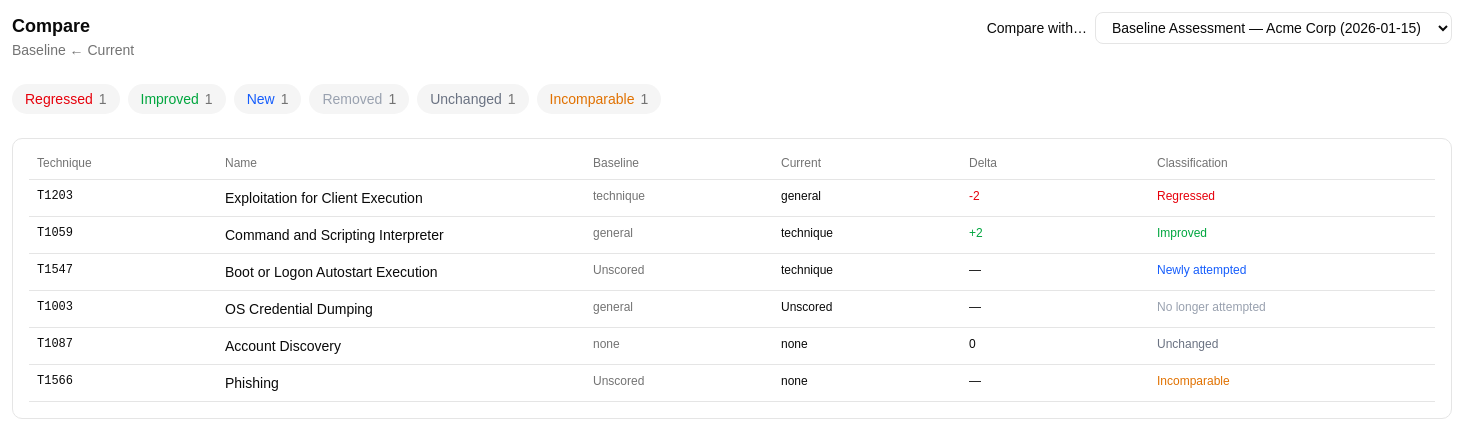
Test: ComparePage › filtering by classification
The width and height of the screenshot is (1464, 436).
Note: Click the "Improved" chip
Click the text "Improved": [170, 99] box [140,89,199,109]
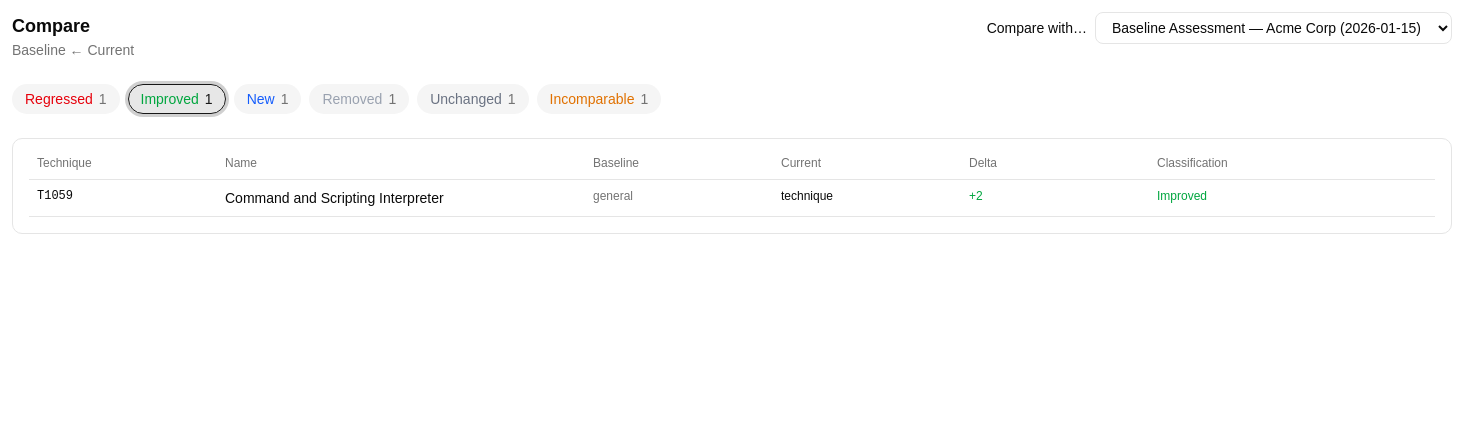
Expected: the text "Improved" is shown, [1157,189,1207,203]
Expected: the number of rows is 1, [29,180,1435,217]
